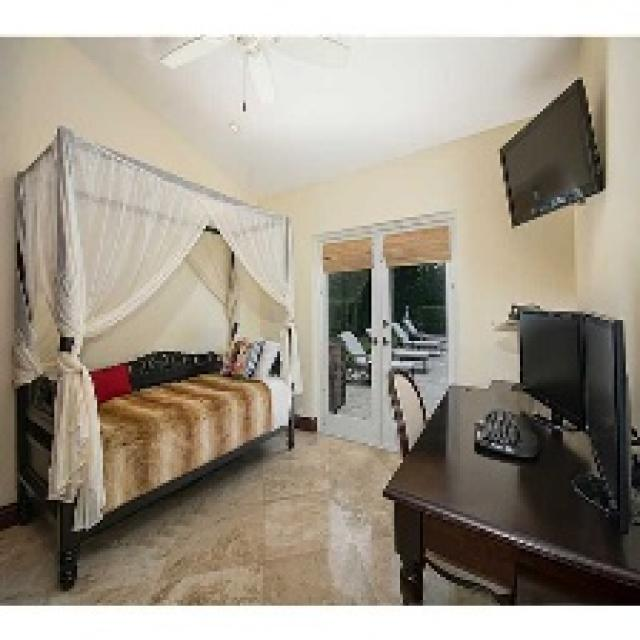Bed: (9, 123, 297, 588)
